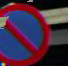No waiting: (0, 2, 54, 65)
